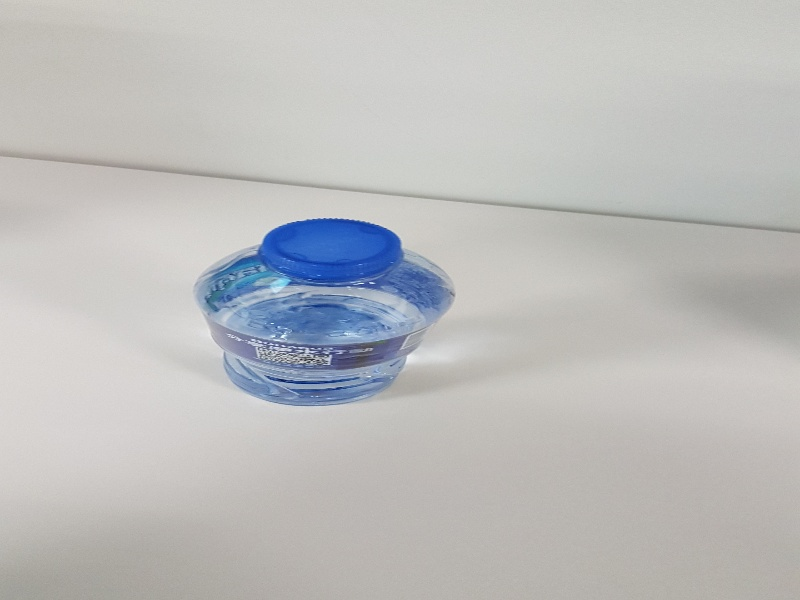Bottle: (189, 217, 455, 410)
